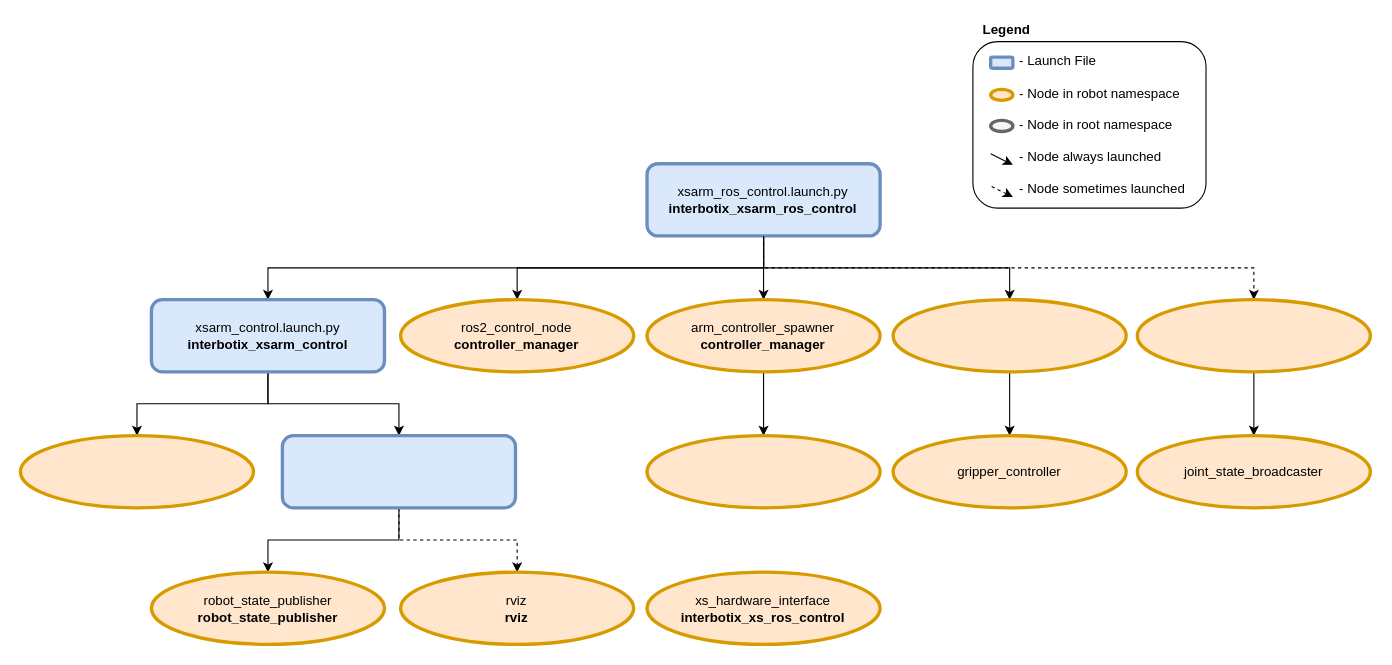
The diagram is 1392 pixels wide and 665 high, and some of its shapes have lost their labels. Here are the shapes that lost their labels. From the top down, the centre of each, then its label:
[1009,335]: gripper_controller_spawner controller_manager
[1253,335]: joint_state_broadcaster_spawner controller_manager
[136,471]: xs_sdk interbotix_xs_sdk
[398,471]: xsarm_description.launch.py interbotix_xsarm_descriptions
[763,471]: arm_controller
